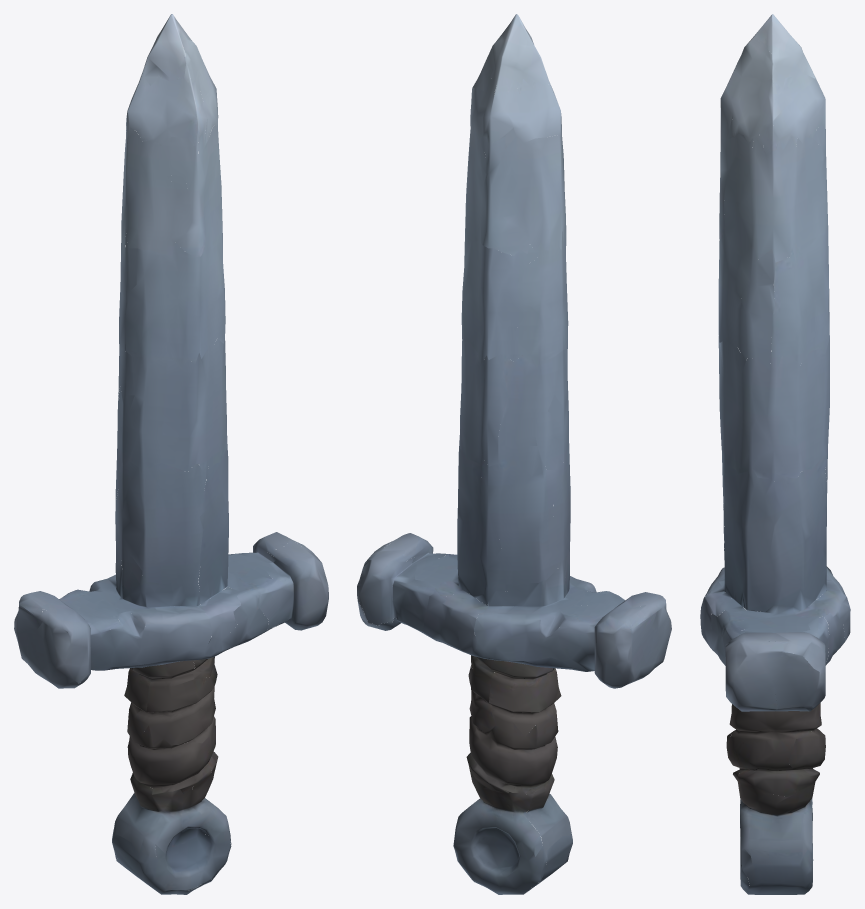
File: Arm_longsword-BK5OwuJ6.glb
3 renders of one model, left to right at view 1: azimuth 30°, elevation 25°; view 2: azimuth 150°, elevation 25°; view 3: azimuth 270°, elevation 25°, orthographic.
Visible parts, largest first — view 1: Arm_longsword; view 2: Arm_longsword; view 3: Arm_longsword.
Part boxes in pixels (x1=…): Arm_longsword: x1=14, y1=14, x2=328, y2=894; Arm_longsword: x1=357, y1=14, x2=671, y2=894; Arm_longsword: x1=700, y1=14, x2=850, y2=894.
Size of the model in its own units: 0.5307 by 1.62 by 0.2522.
Materials: 1 (1 with a texture image).
